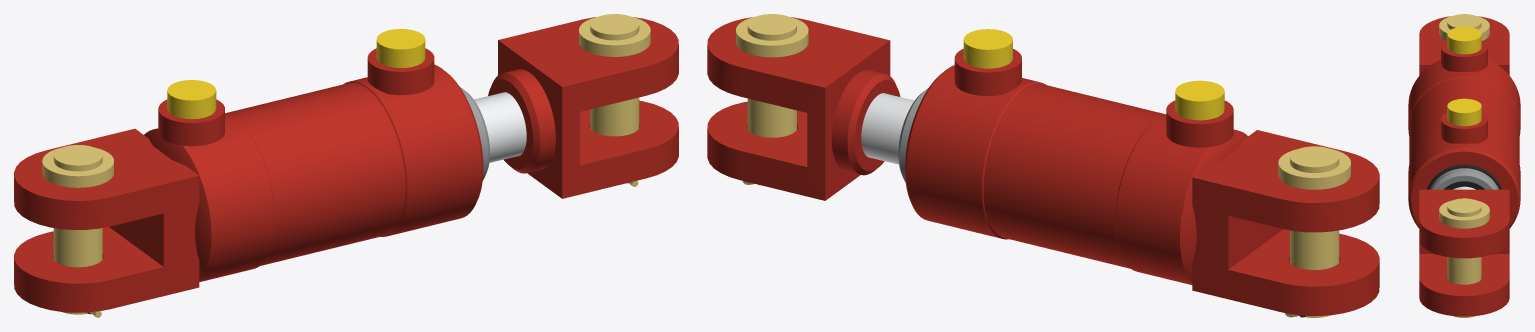
The model's file is hydraulic-cylinder.glb.
The picture shows the model from 3 angles, left to right: view 1: azimuth 30°, elevation 25°; view 2: azimuth 150°, elevation 25°; view 3: azimuth 270°, elevation 25°; orthographic projection. The views are drawn at different scales.
Visible parts, largest first — view 1: rear_clevis, rod_clevis, barrel_tube, front_cap, rear_cap, rear_pin, rod_pin, rod, gland; view 2: rear_clevis, rod_clevis, barrel_tube, front_cap, rear_cap, rear_pin, rod_pin, rod, gland; view 3: rod_clevis, front_cap, barrel_tube, rear_cap, rod_pin, rear_clevis, gland, rear_pin.
Part boxes in pixels (box(x1,y1,x2,y2)): rear_clevis: box(14, 128, 199, 312); rod_clevis: box(488, 17, 678, 198); barrel_tube: box(225, 83, 405, 265); front_cap: box(343, 29, 483, 236); rear_cap: box(144, 80, 275, 281); rear_pin: box(42, 145, 113, 317); rod_pin: box(579, 14, 650, 186); rod: box(474, 92, 526, 162); gland: box(460, 87, 489, 180); rear_clevis: box(1192, 130, 1379, 315); rod_clevis: box(707, 17, 900, 200); barrel_tube: box(983, 83, 1166, 268); front_cap: box(905, 29, 1046, 239); rear_cap: box(1115, 80, 1247, 284); rear_pin: box(1278, 146, 1350, 317); rod_pin: box(736, 14, 808, 185); rod: box(861, 93, 914, 164); gland: box(898, 87, 928, 182); rod_clevis: box(1419, 189, 1509, 316); front_cap: box(1408, 98, 1520, 228); barrel_tube: box(1409, 78, 1519, 162); rear_cap: box(1408, 26, 1520, 135); rod_pin: box(1439, 198, 1489, 317); rear_clevis: box(1419, 16, 1509, 75); gland: box(1427, 164, 1501, 189); rear_pin: box(1439, 14, 1489, 40).
Bounding box in the file's own units: 0.291 × 0.0802 × 0.062.
